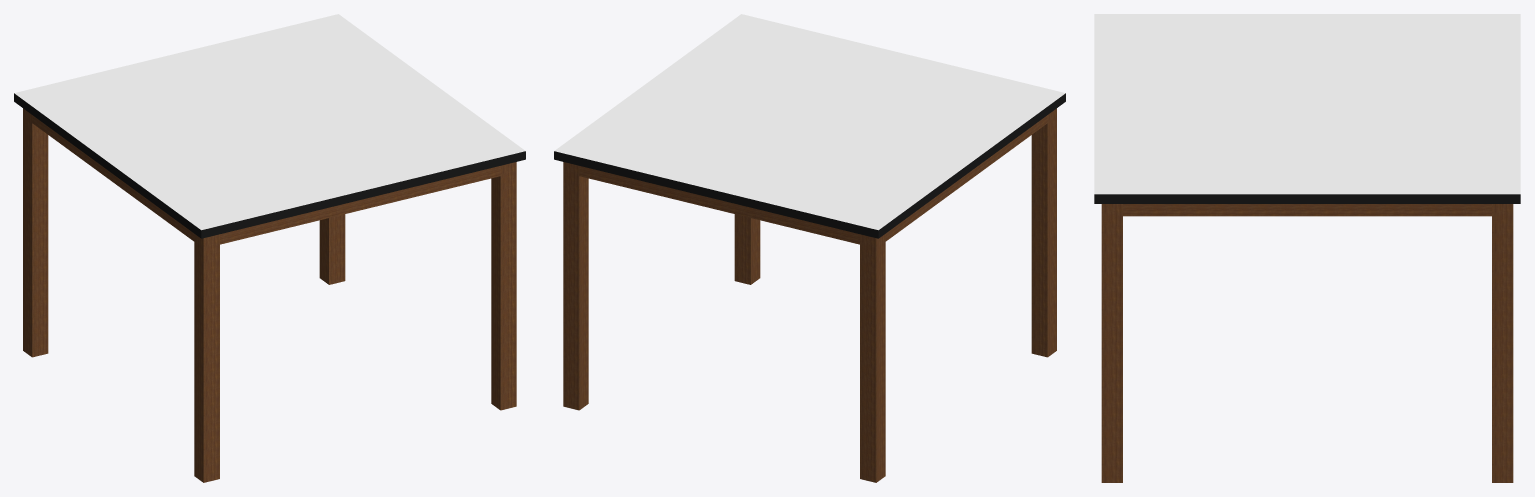
The model's file is desk.gltf.
The picture shows the model from 3 angles, left to right: view 1: azimuth 30°, elevation 25°; view 2: azimuth 150°, elevation 25°; view 3: azimuth 270°, elevation 25°; orthographic projection. The views are drawn at different scales.
Visible parts, largest first — view 1: TableTop, TableLeg (×4), TableSide (×2); view 2: TableTop, TableLeg (×4), TableSide (×2); view 3: TableTop, TableLeg (×2), TableSide.
Part boxes in pixels (box(x1,y1,x2,y2)): TableTop: box(14, 14, 525, 238); TableLeg (×4): box(23, 108, 516, 482); TableSide (×2): box(32, 115, 500, 244); TableTop: box(554, 14, 1065, 238); TableLeg (×4): box(563, 108, 1056, 482); TableSide (×2): box(579, 115, 1047, 244); TableTop: box(1094, 14, 1520, 203); TableLeg (×2): box(1101, 204, 1513, 482); TableSide: box(1123, 204, 1491, 216).
Size of the model in its own units: 1 by 0.7551 by 1.
4 materials, 1 textured.
